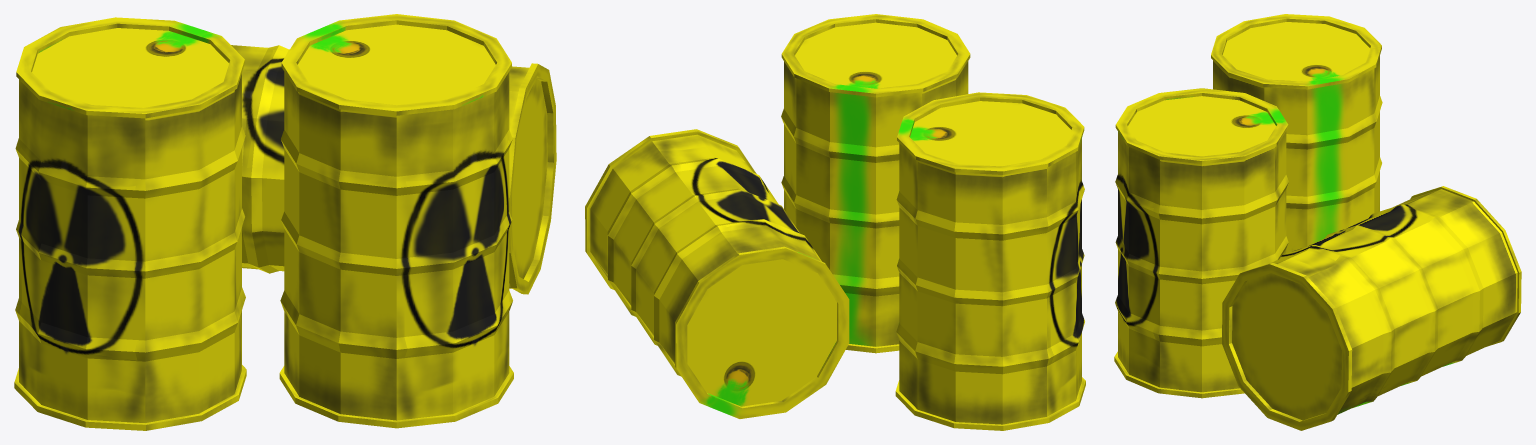
File: triple-barrel.fbx
3 views of the same model, side by side, from view 1: azimuth 30°, elevation 25°; view 2: azimuth 150°, elevation 25°; view 3: azimuth 270°, elevation 25° (orthographic). The views are drawn at different scales.
Parts seen in each view (by area): view 1: Cylinder, Cylinder.002, Cylinder.001; view 2: Cylinder.002, Cylinder.001, Cylinder; view 3: Cylinder.001, Cylinder, Cylinder.002.
Boxes of the visible parts, x1,y1,x2,y2 form: Cylinder: (279,14,513,428); Cylinder.002: (14,17,246,430); Cylinder.001: (231,45,556,294); Cylinder.002: (895,92,1085,430); Cylinder.001: (585,129,849,418); Cylinder: (781,14,970,353); Cylinder.001: (1222,186,1521,430); Cylinder: (1114,88,1288,398); Cylinder.002: (1211,14,1382,252).
Size of the model in its own units: 288 by 155 by 242.
